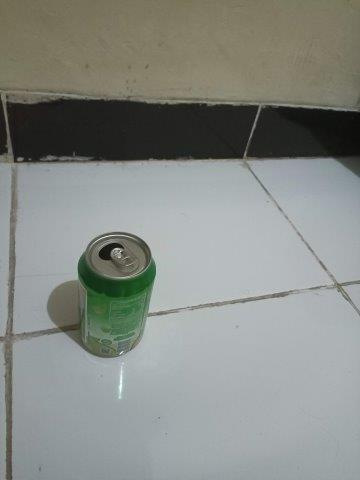kaleng: (78, 232, 156, 358)
